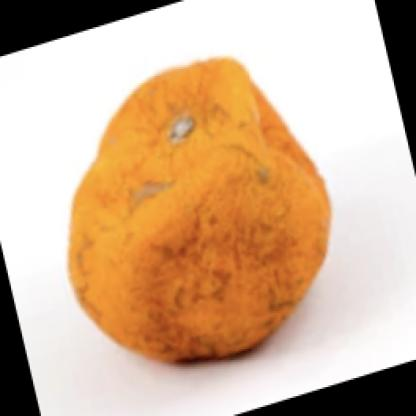rotten_orange: (53, 46, 340, 377)
